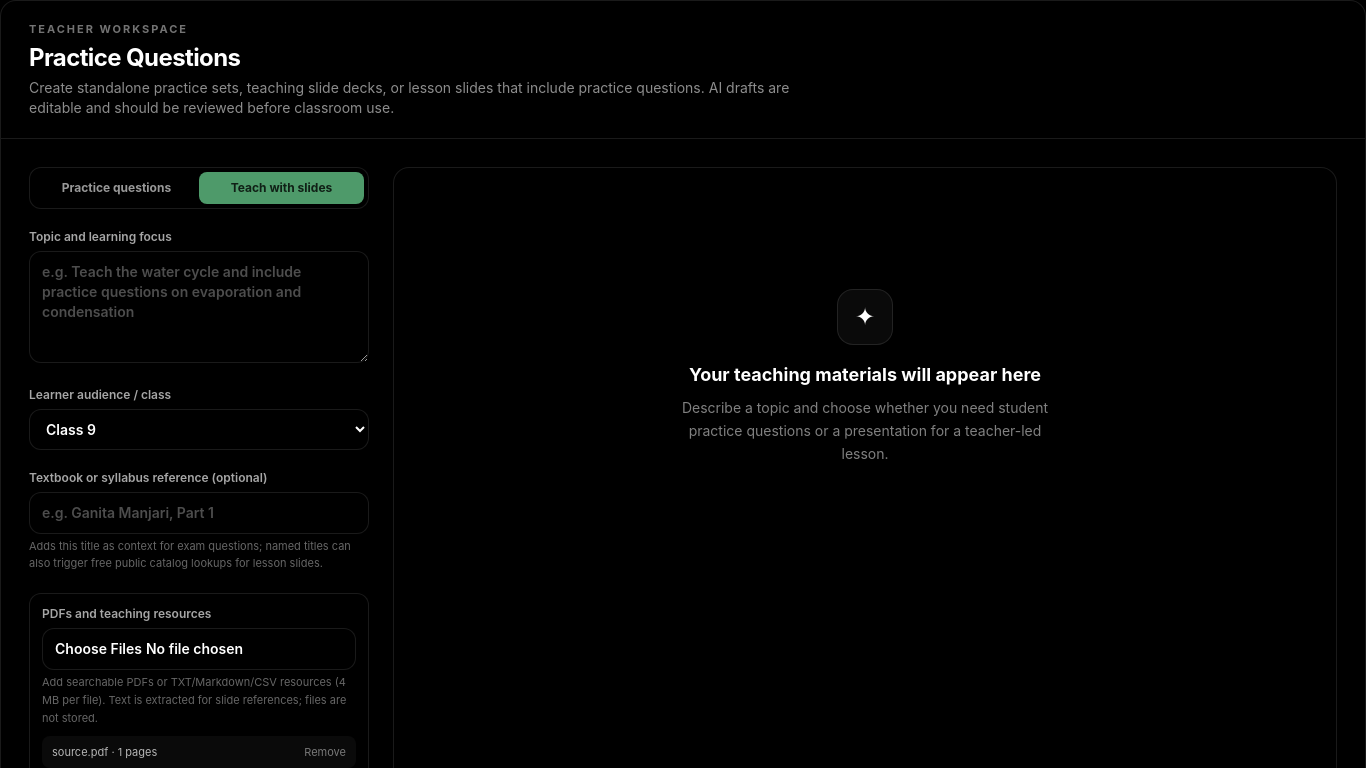
Test case: Practice Questions view › uses uploaded PDF reference text when generating the slide deck
The width and height of the screenshot is (1366, 768).
Earlier steps of the test are not shown.
Check: the text "source.pdf · 1 pages" is shown, box [52,744,157,760]
Replace the text in the text box labelled "Topic and learning focus" with "Explain the water cycle to students": (199, 306) [29,250,369,362]
(page scrolled)
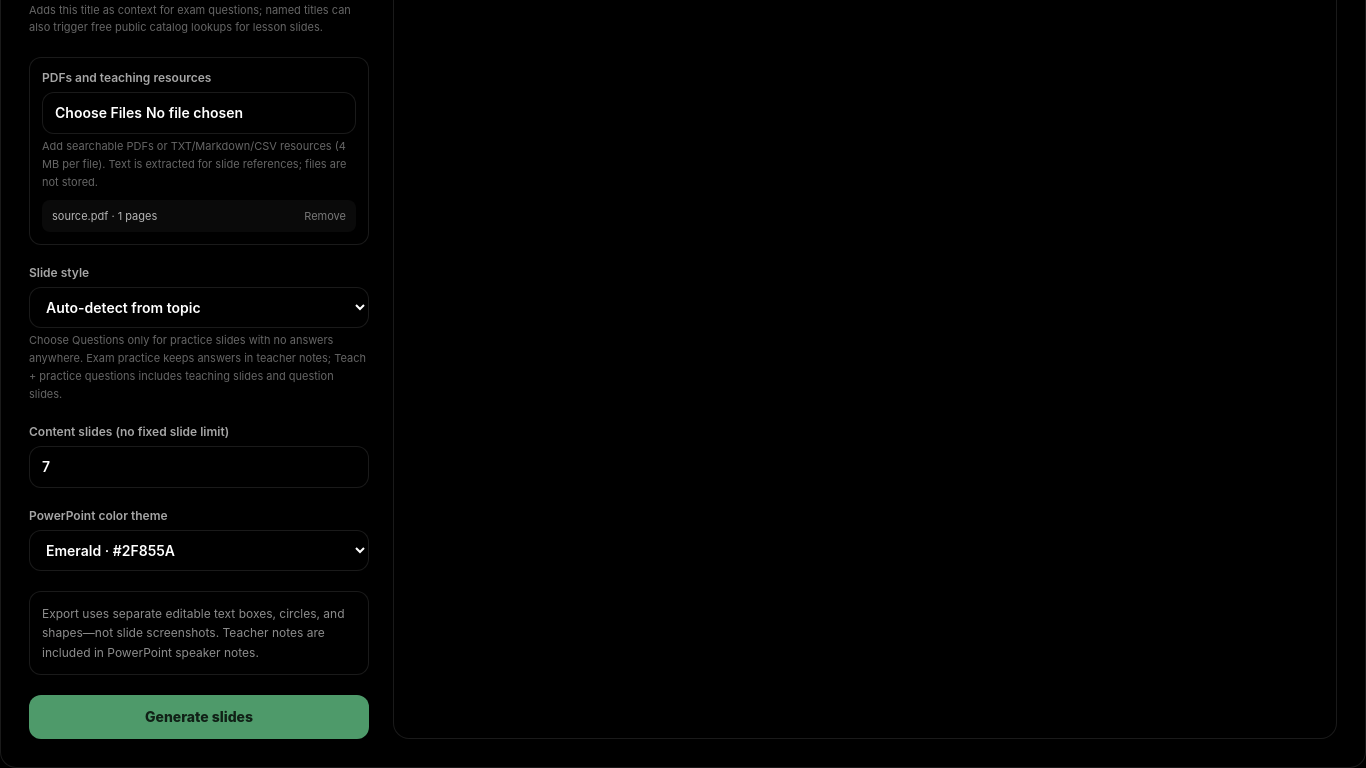
Click the button "Generate slides": click(199, 717) [29,695,369,739]
(page scrolled)
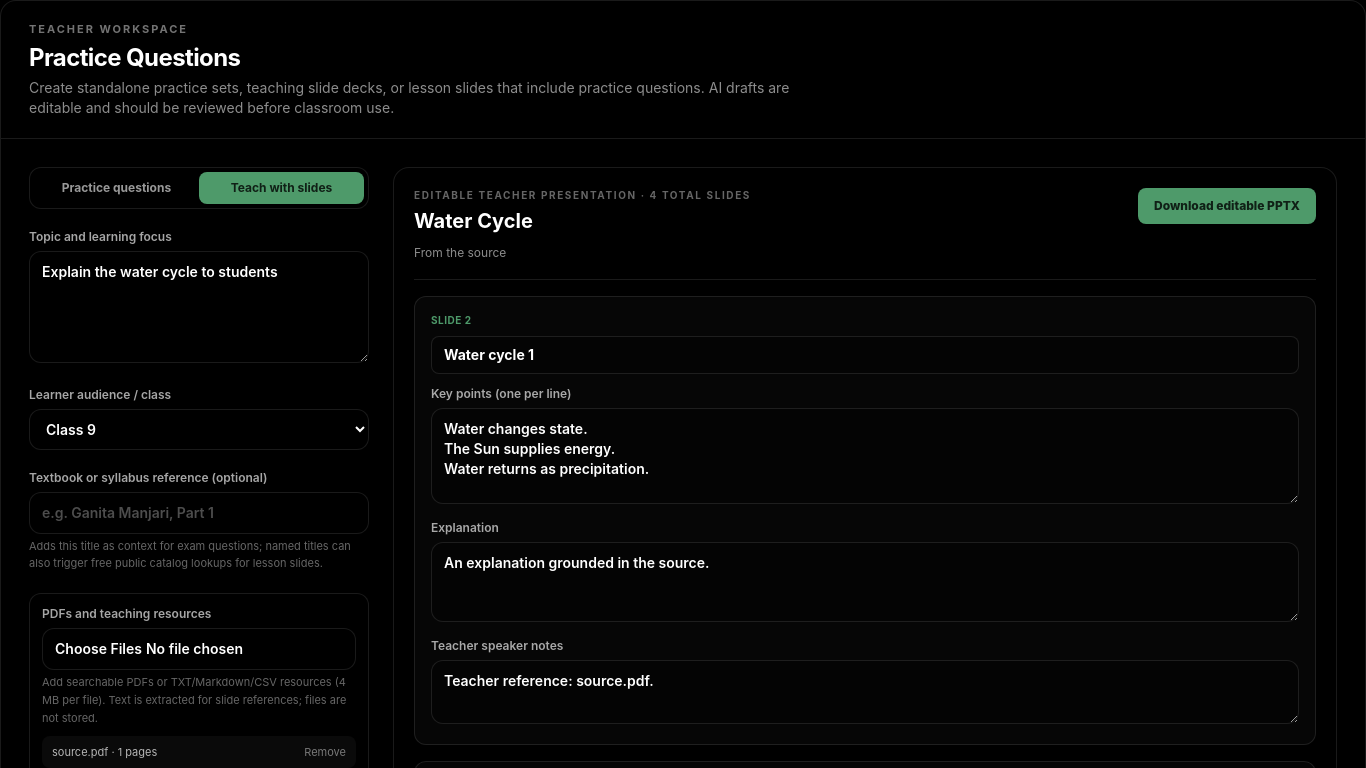
Check: the field named "Slide 1 title" holds "Water cycle 1", box [431,336,1299,374]
